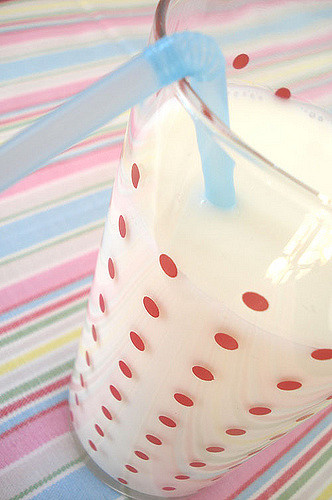glass of milk: (88, 2, 329, 495)
